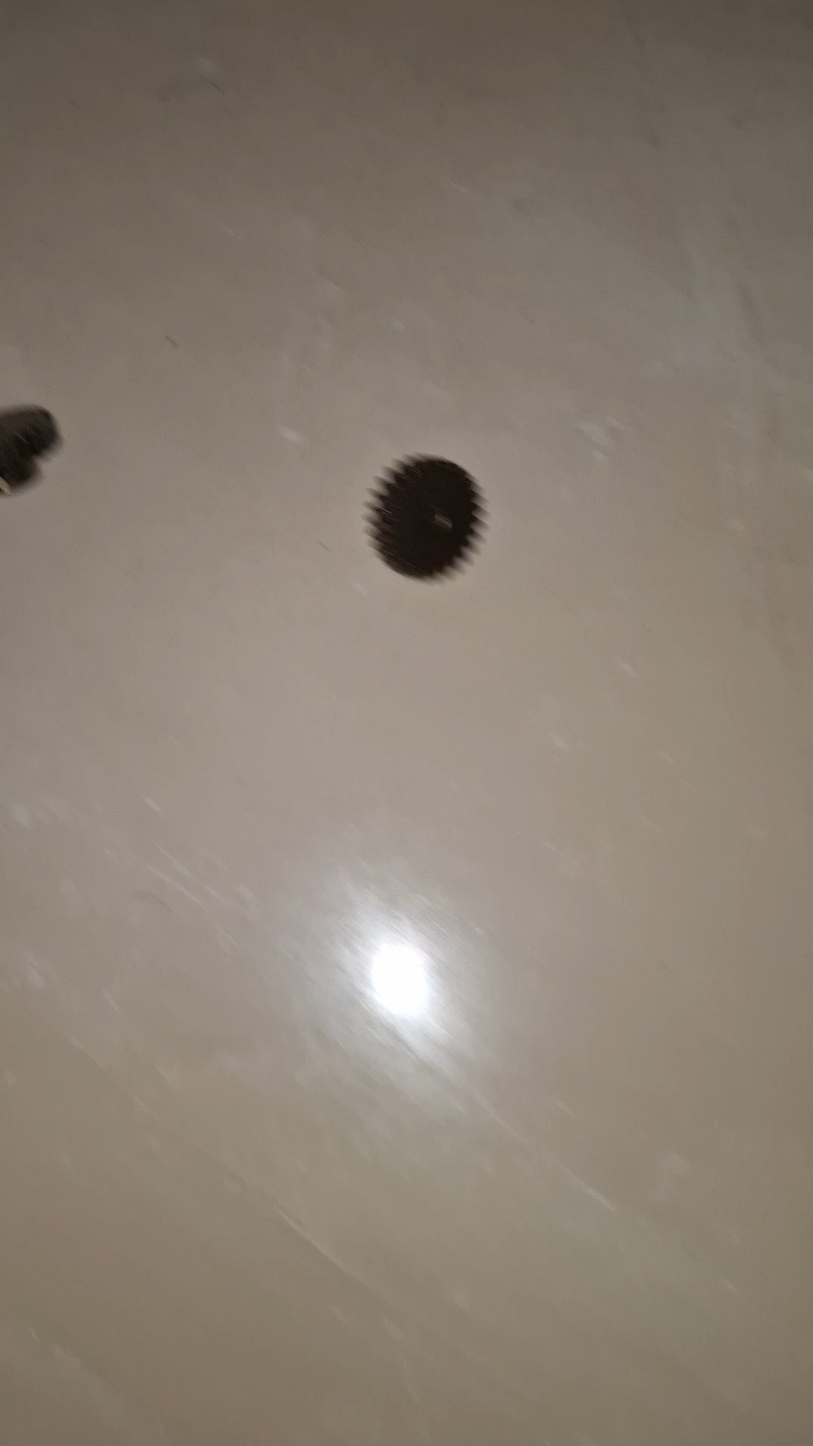spur gear: (367, 456, 484, 579), (0, 406, 59, 492)
